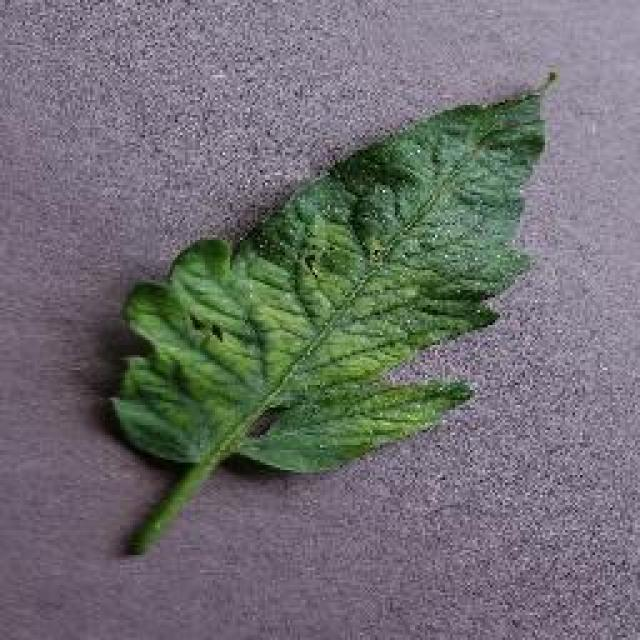Tomato spider mites leaf: (109, 85, 544, 475)
